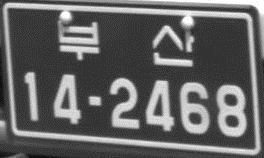-: (85, 93, 105, 110)
1: (21, 69, 40, 125)
2: (108, 75, 140, 131)
4: (144, 79, 178, 131), (51, 71, 82, 125)
6: (178, 80, 211, 135)
8: (214, 82, 247, 139)
부산_D: (54, 18, 196, 68)
